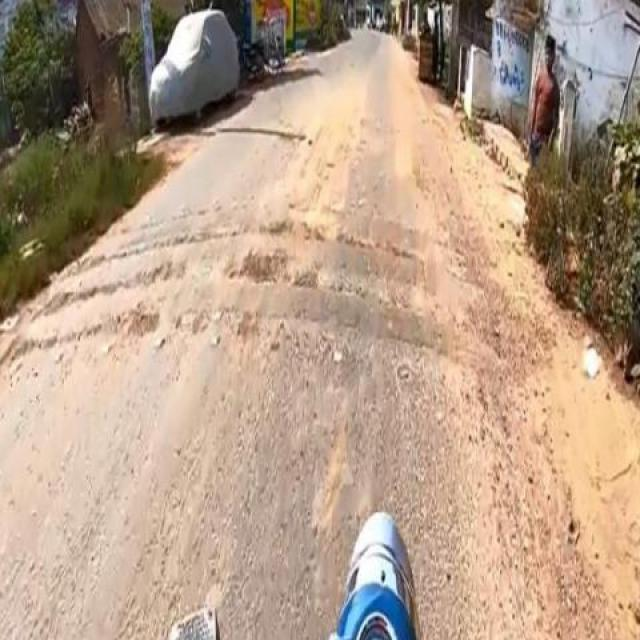Pothole: (210, 113, 313, 162)
Unmarked Bump: (14, 274, 504, 358), (39, 230, 481, 304), (99, 202, 446, 258)
